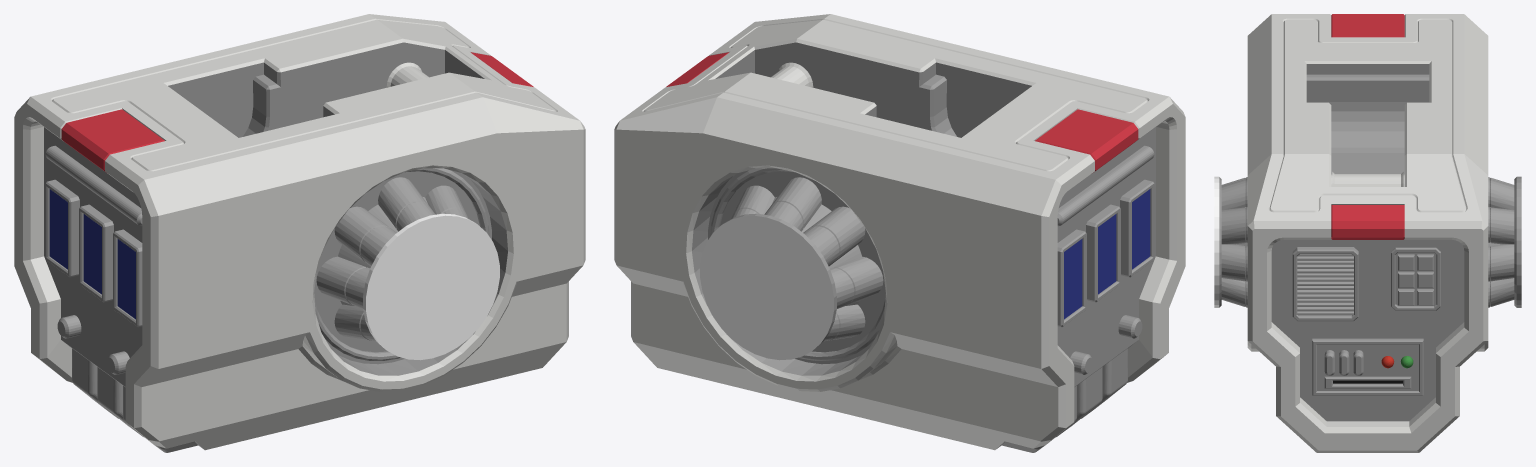
Rendered from body_m.dae.
3 views of the same model, side by side, from view 1: azimuth 30°, elevation 25°; view 2: azimuth 150°, elevation 25°; view 3: azimuth 270°, elevation 25° (orthographic). The views are drawn at different scales.
Parts seen in each view (by area): view 1: SketchUp (×20); view 2: SketchUp (×21); view 3: SketchUp (×19).
Part boxes in pixels (<box>): SketchUp (×20): <box>14,14,585,450</box>; SketchUp (×21): <box>614,14,1185,450</box>; SketchUp (×19): <box>1214,14,1521,452</box>.
Size of the model in its own units: 6.97 by 5.04 by 4.77.
